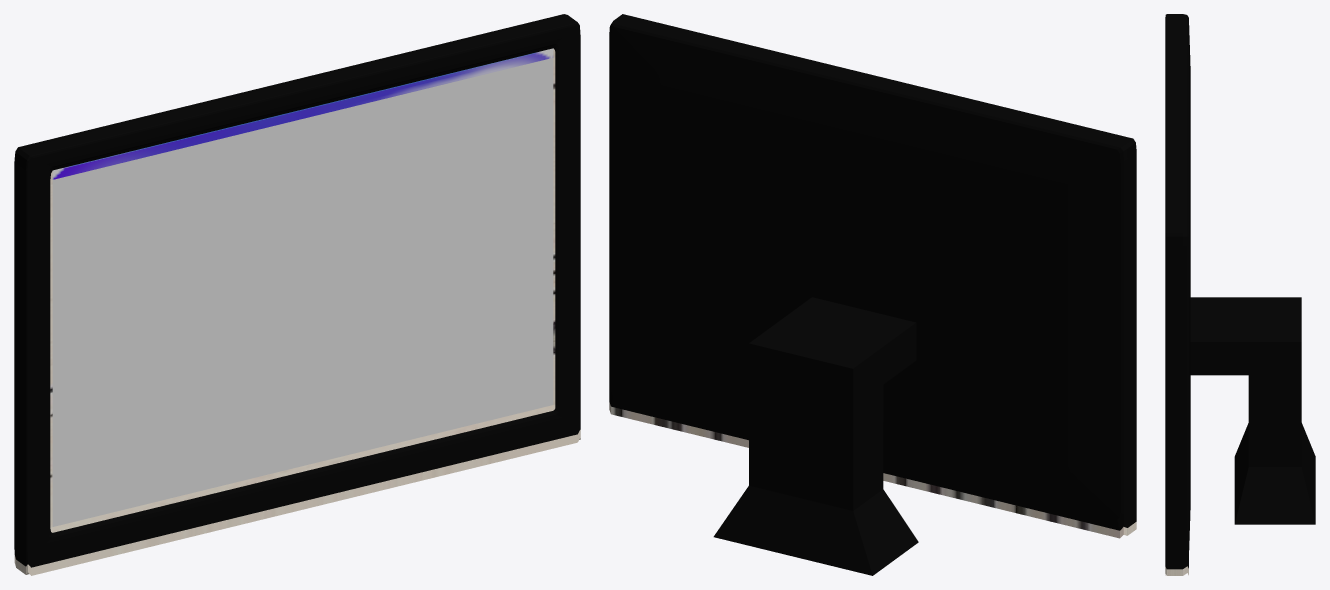
The picture shows the model from 3 angles, left to right: view 1: azimuth 30°, elevation 25°; view 2: azimuth 150°, elevation 25°; view 3: azimuth 270°, elevation 25°; orthographic projection. The views are drawn at different scales.
Parts seen in each view (by area): view 1: polySurface562; view 2: polySurface562; view 3: polySurface562.
Part boxes in pixels (x1=…): polySurface562: x1=14, y1=14, x2=580, y2=575; polySurface562: x1=609, y1=14, x2=1136, y2=575; polySurface562: x1=1165, y1=14, x2=1315, y2=575.
Size of the model in its own units: 9.08 by 7.02 by 2.6.
4 materials, 2 textured.
